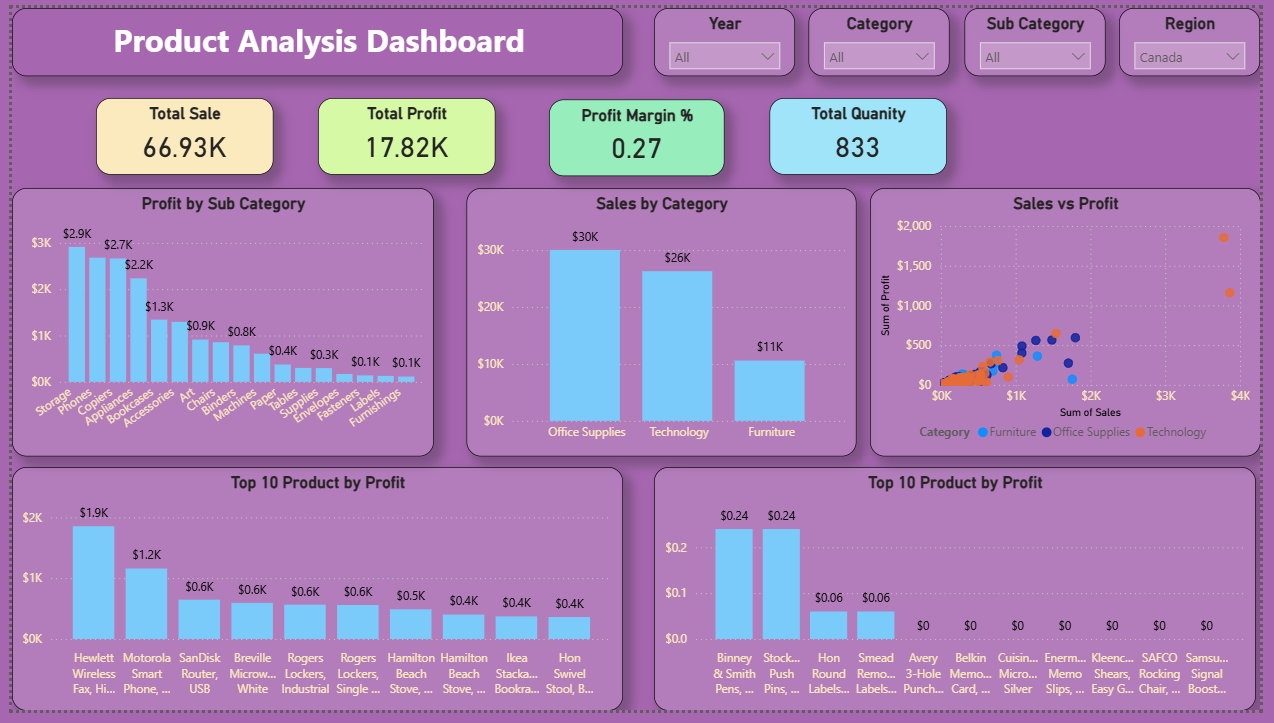

This screenshot's page, from the dashboard's own definition file:
{"tool":"powerbi","page":{"name":"Product Analysis Dashboard","canvas":[1280,720],"ordinal":2},"visuals":[{"type":"slicer","title":"Year","fields":{"Values":["Orders.Order Year"]},"box":[658.5,0,144.7,70],"z":0},{"type":"slicer","title":"Category","fields":{"Values":["Orders.Category"]},"box":[817.6,0,144.7,70],"z":1},{"type":"slicer","title":"Sub Category","fields":{"Values":["Orders.Sub-Category"]},"box":[976.6,0,144.7,70],"z":2},{"type":"slicer","title":"Region","fields":{"Values":["Orders.Region"]},"box":[1135.7,0,144.7,70],"z":3},{"type":"card","title":"Total Sale","fields":{"Values":["Orders.Total Sales"]},"box":[86.7,91.7,181.7,78.3],"z":4},{"type":"card","title":"Total Profit","fields":{"Values":["Orders.Total Profit"]},"box":[313.3,91.7,181.7,78.3],"z":5},{"type":"card","title":"Profit Margin %","fields":{"Values":["Orders.Profit Margin %"]},"box":[550,93.3,180,78.3],"z":6},{"type":"card","title":"Total Quanity","fields":{"Values":["Orders.Total Quantity"]},"box":[776.7,91.7,181.7,78.3],"z":7},{"type":"columnChart","title":"Sales by Category","fields":{"Y":["Sum(Orders.Sales)"],"Category":["Orders.Category"]},"box":[466,184.5,400,275.2],"z":8},{"type":"columnChart","title":"Profit by Sub Category ","fields":{"Category":["Orders.Sub-Category"],"Y":["Sum(Orders.Profit)"]},"box":[0,184.5,432.6,275.2],"z":9},{"type":"columnChart","title":"Top 10 Product by Profit","fields":{"Category":["Orders.Product Name"],"Y":["Sum(Orders.Profit)"]},"box":[0,470.8,626.7,249.7],"z":10},{"type":"columnChart","title":"Top 10 Product by Profit","fields":{"Category":["Orders.Product Name"],"Y":["Sum(Orders.Profit)"]},"box":[658.5,470.8,617.2,249.7],"z":11},{"type":"scatterChart","title":"Sales vs Profit","fields":{"X":["Sum(Orders.Sales)"],"Y":["Sum(Orders.Profit)"],"Series":["Orders.Category"],"Category":["Orders.Product Name"]},"box":[879.6,184.5,400.8,275.2],"z":12},{"type":"textbox","box":[0,0,626.7,70],"z":13}]}

Visuals, with their boxes in screenshot pixels (x1, y1, x2, y2), scaled from the page's 1280x720 canvas onto the 1274x723 screenshot:
"Year" slicer: left=655, top=0, right=799, bottom=70
"Category" slicer: left=814, top=0, right=958, bottom=70
"Sub Category" slicer: left=972, top=0, right=1116, bottom=70
"Region" slicer: left=1130, top=0, right=1273, bottom=70
"Total Sale" card: left=86, top=92, right=267, bottom=171
"Total Profit" card: left=312, top=92, right=493, bottom=171
"Profit Margin %" card: left=547, top=94, right=727, bottom=172
"Total Quanity" card: left=773, top=92, right=954, bottom=171
"Sales by Category" columnChart: left=464, top=185, right=862, bottom=462
"Profit by Sub Category " columnChart: left=0, top=185, right=431, bottom=462
"Top 10 Product by Profit" columnChart: left=0, top=473, right=624, bottom=722
"Top 10 Product by Profit" columnChart: left=655, top=473, right=1270, bottom=722
"Sales vs Profit" scatterChart: left=875, top=185, right=1273, bottom=462
textbox: left=0, top=0, right=624, bottom=70
